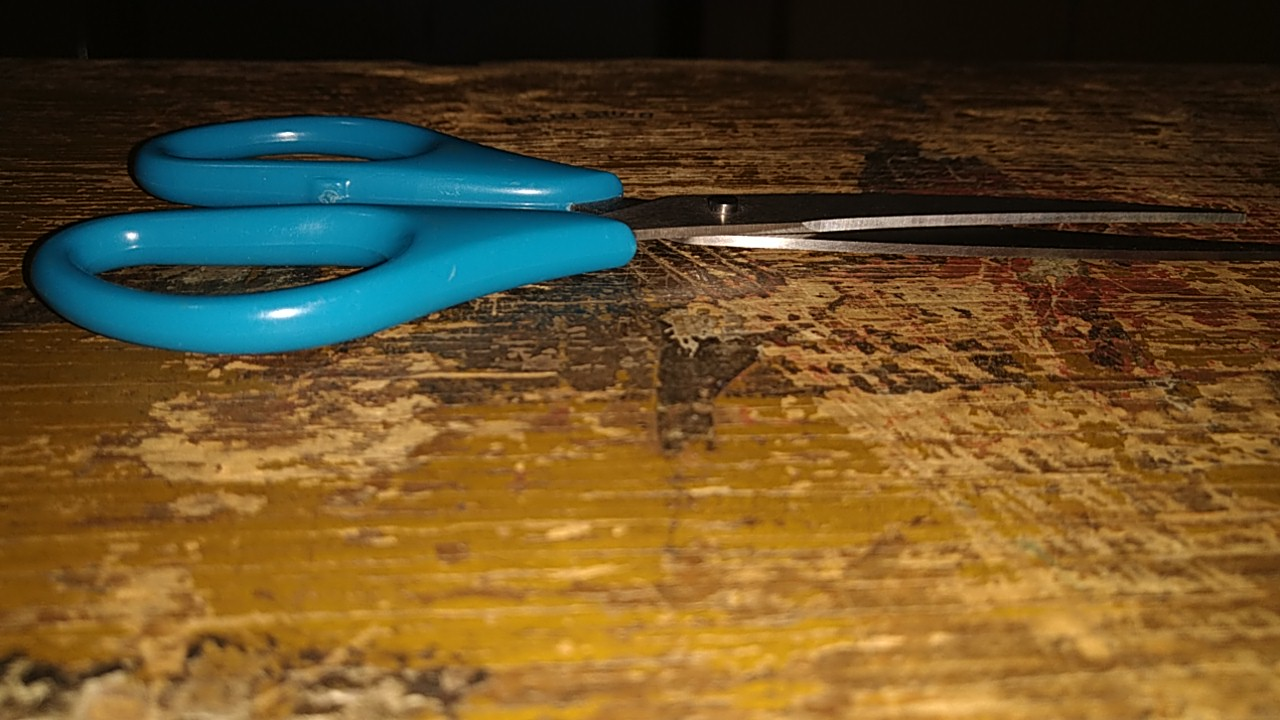scissor: (20, 98, 1280, 375)
